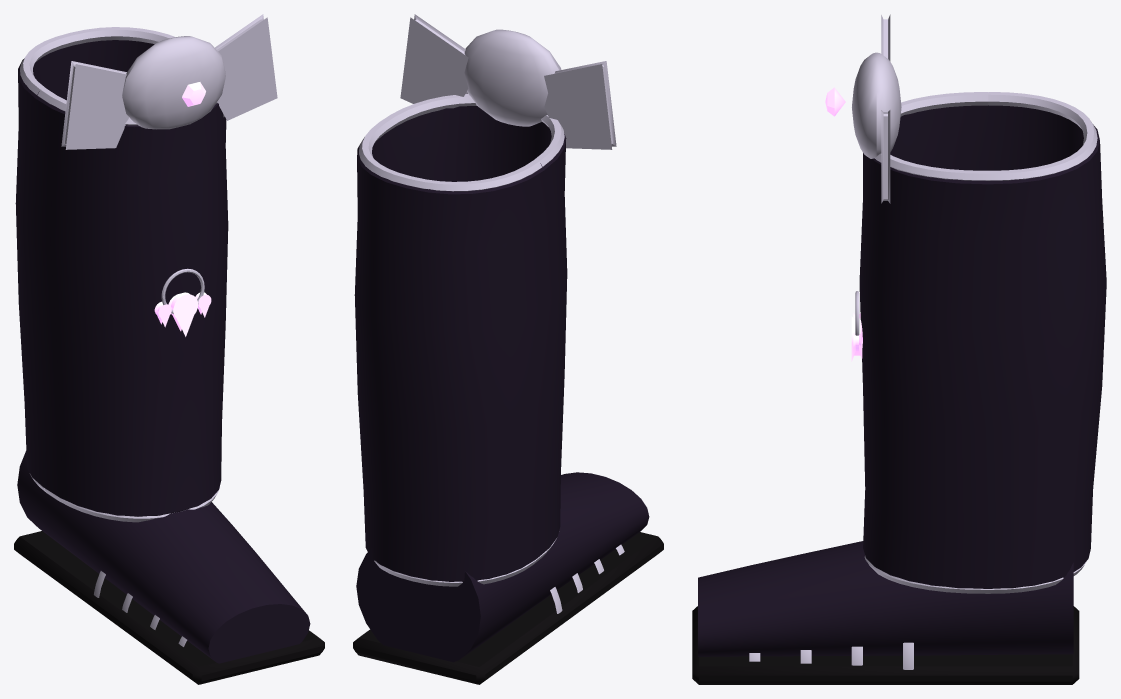
Rendered from boss_wailing_mistress_boots_2.glb.
3 views of the same model, side by side, from view 1: azimuth 30°, elevation 25°; view 2: azimuth 150°, elevation 25°; view 3: azimuth 270°, elevation 25° (orthographic). The views are drawn at different scales.
Parts seen in each view (by area): view 1: boss_wailing_mistress_boots_2, AT_foot_R; view 2: boss_wailing_mistress_boots_2, AT_foot_R; view 3: boss_wailing_mistress_boots_2, AT_foot_R.
Part boxes in pixels (<box>): boss_wailing_mistress_boots_2: <box>15,14,277,522</box>; AT_foot_R: <box>14,451,324,684</box>; boss_wailing_mistress_boots_2: <box>354,14,616,586</box>; AT_foot_R: <box>353,472,663,684</box>; boss_wailing_mistress_boots_2: <box>825,14,1106,593</box>; AT_foot_R: <box>692,541,1079,684</box>.
Bounding box in the file's own units: 0.2244 × 0.5768 × 0.3641.
